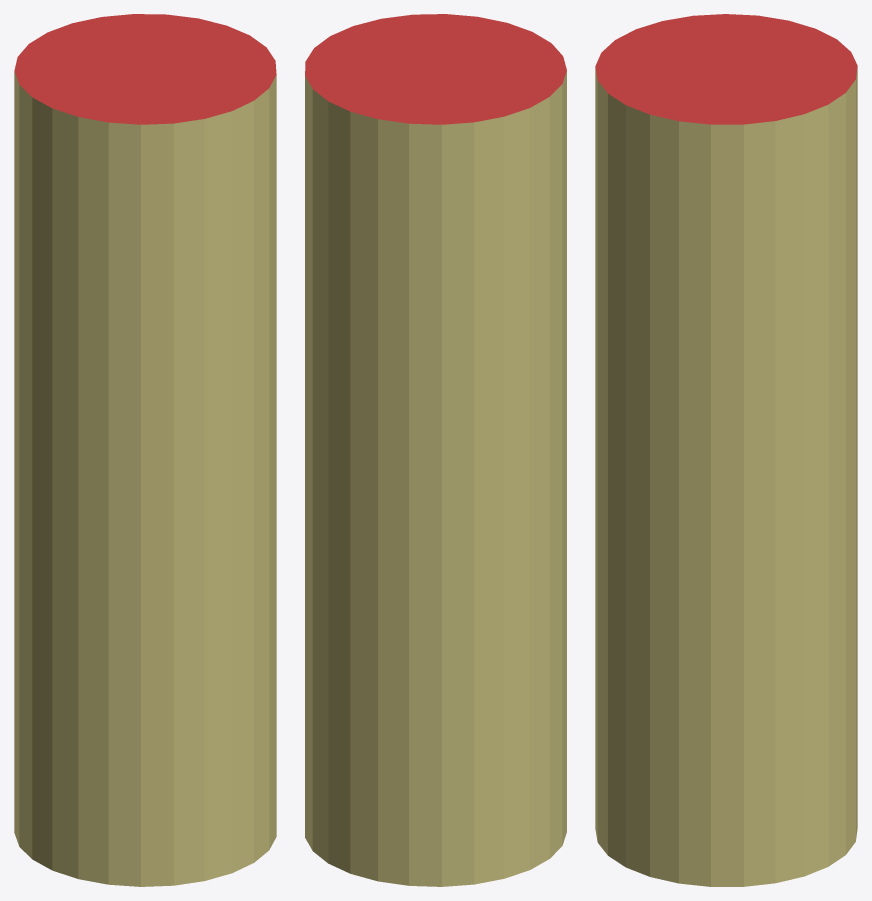
3 views of the same model, side by side, from view 1: azimuth 30°, elevation 25°; view 2: azimuth 150°, elevation 25°; view 3: azimuth 270°, elevation 25° (orthographic).
Bounding box in the file's own units: 3.46 × 3.46 × 11.1.
